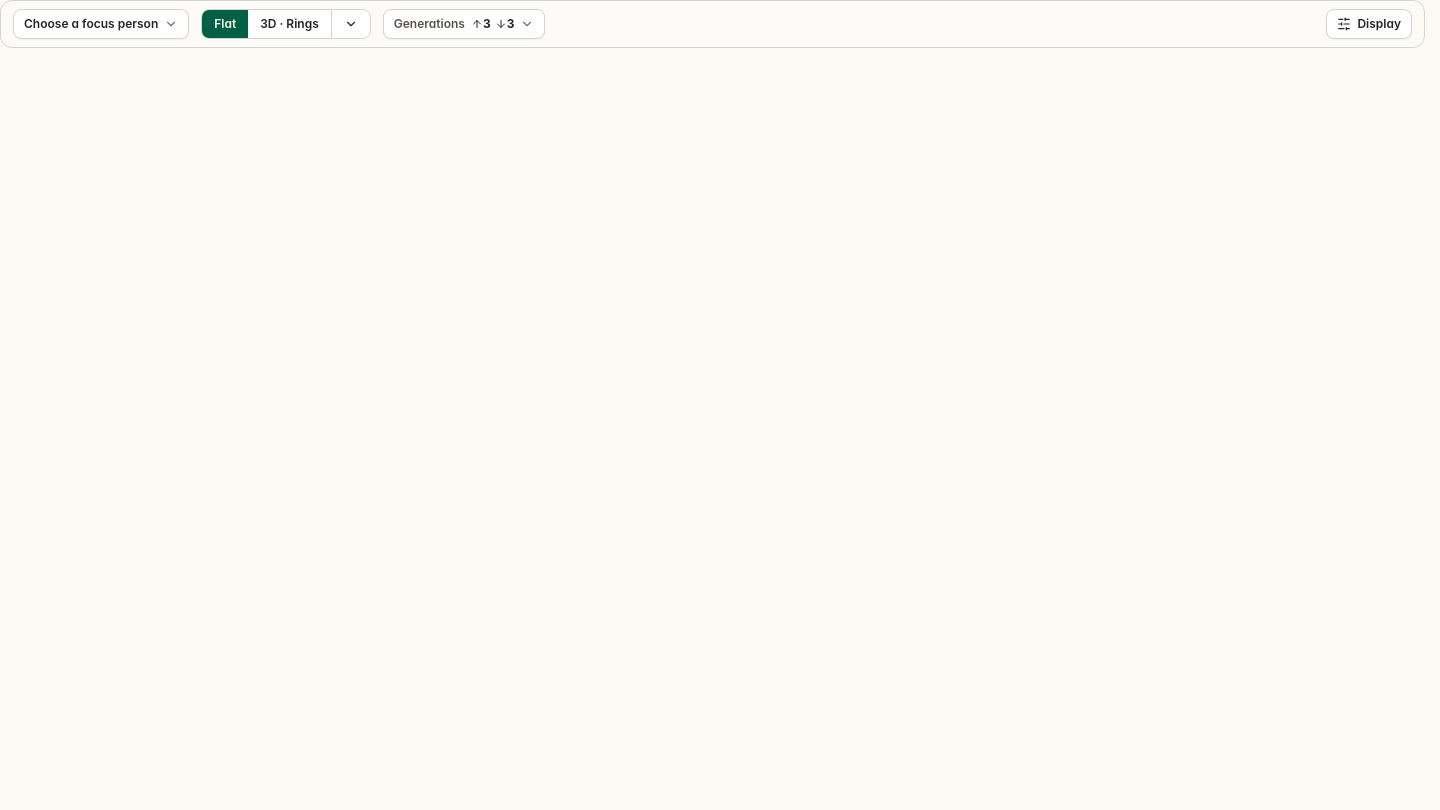
Scenario: TreeToolbar on a tablet › folds the generation steppers into one button
Click the button "Generations 3 3".
click(464, 24)  # box [383,9,546,39]
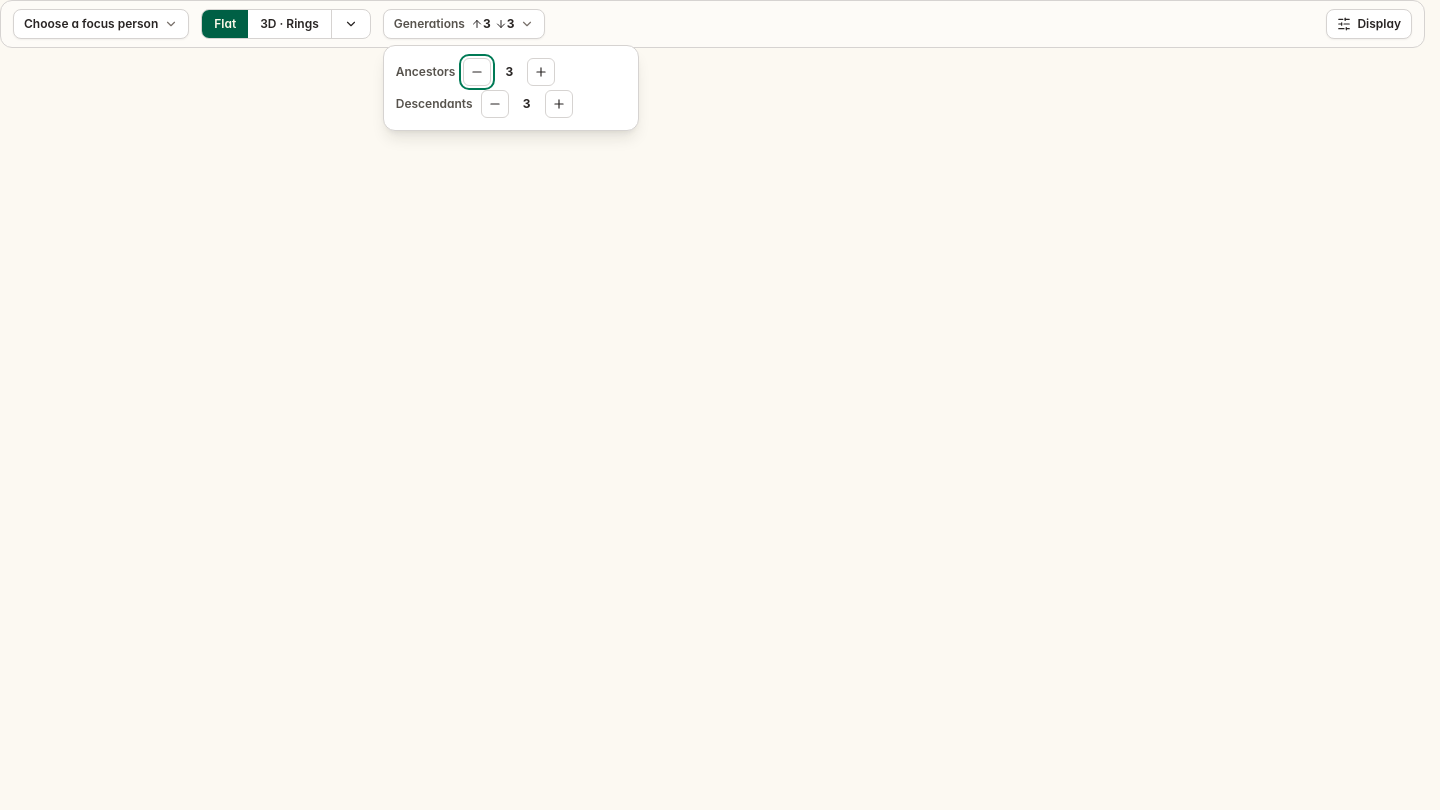
Expected: the button named "More ancestors generations" is shown, [527,58,555,86]
